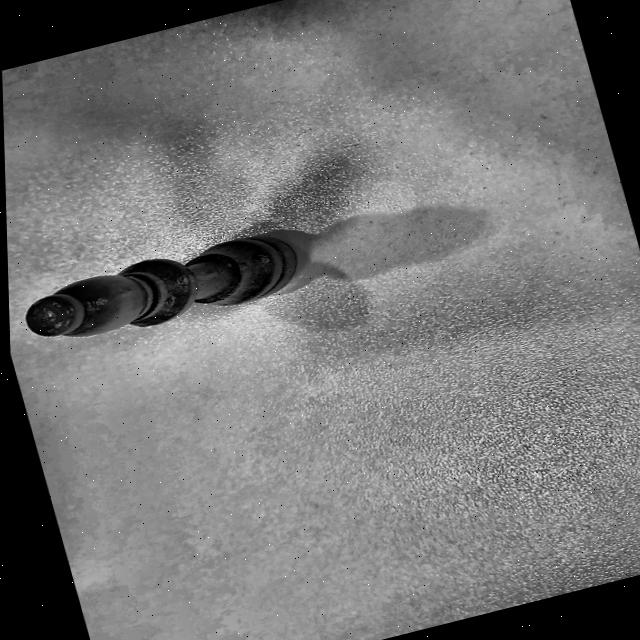black-bishop: (8, 217, 324, 369)
